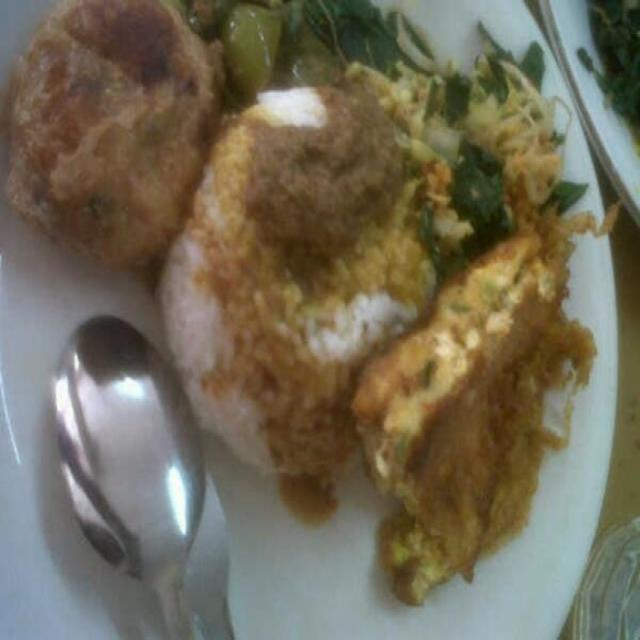米饭主食: (18, 13, 616, 626)
